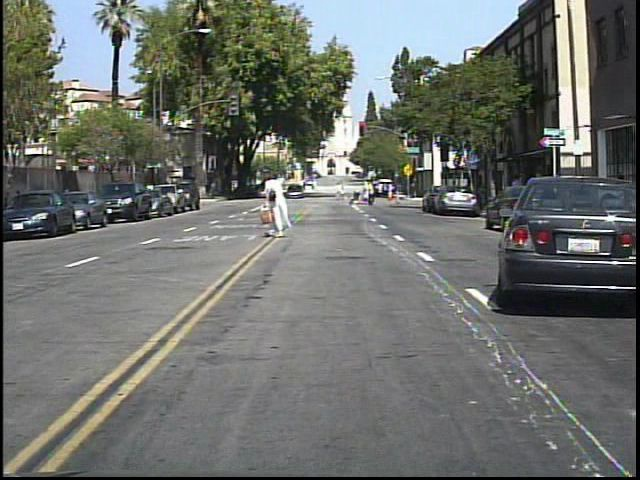person: (260, 168, 293, 241), (615, 163, 634, 231), (509, 167, 530, 223), (358, 178, 377, 210), (364, 177, 380, 208)
